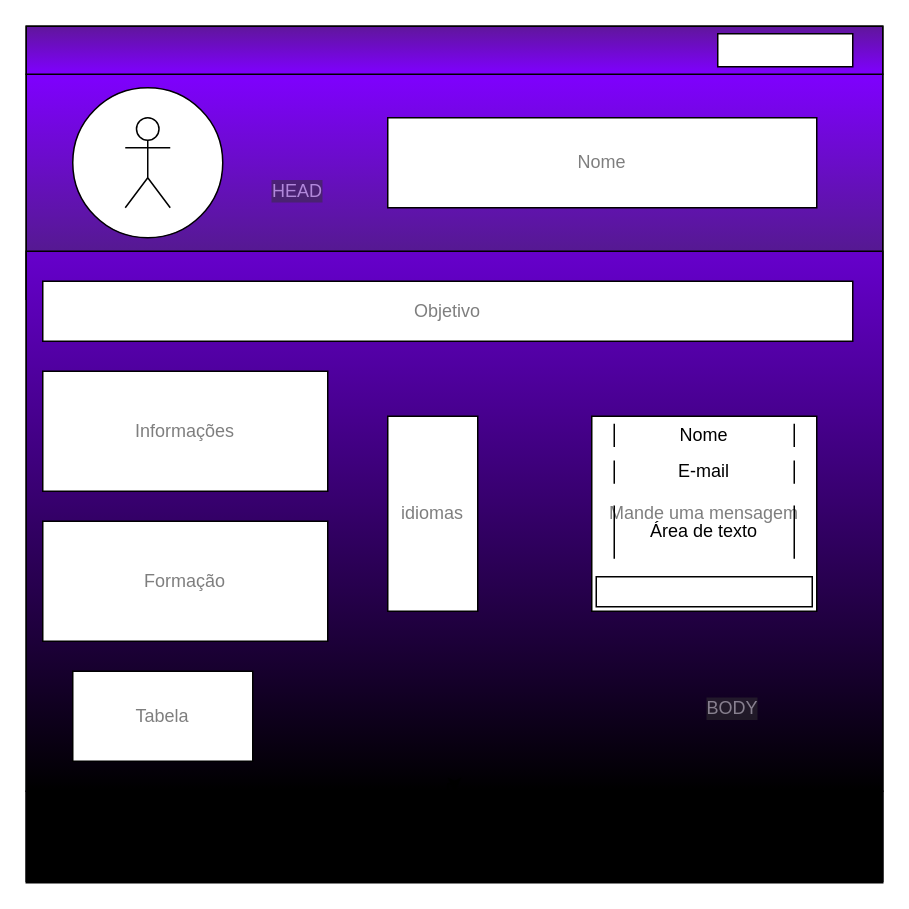
Image size: 909x909. Some labels were removed from this diagram. The shapes that lost their labels are listed below. From the top down, each one's centre as x and y in pixels, then its label:
At pixel 784 49: "Contatos".
At pixel 703 591: "Selecionar ficheiro".
At pixel 454 835: "FOOTER".
